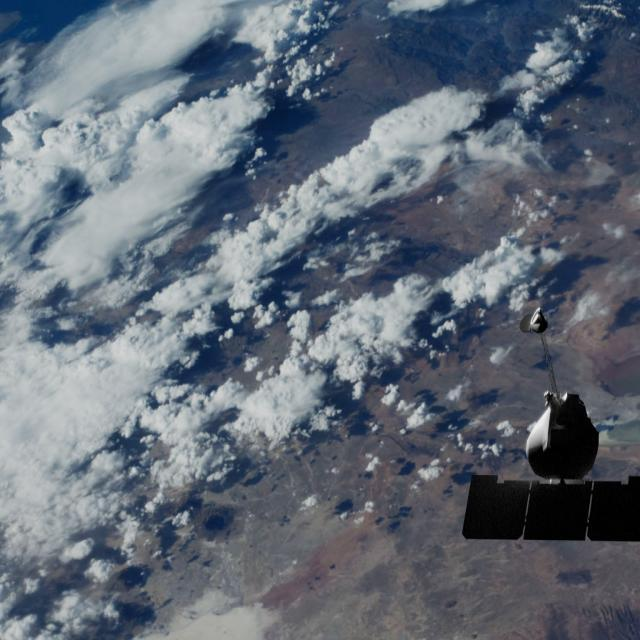satellite: (446, 286, 640, 592)
